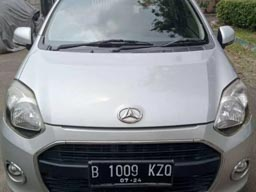plat: (90, 161, 173, 177)
